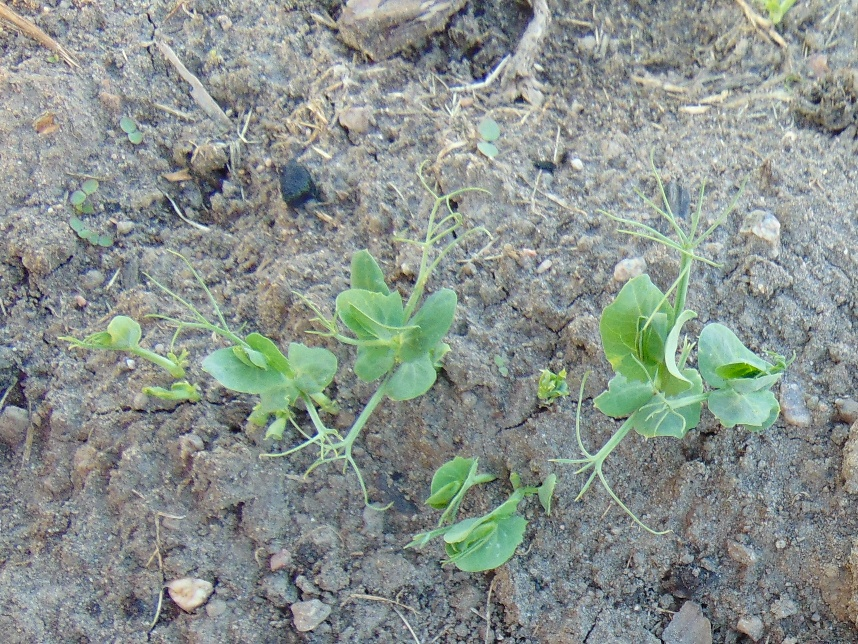crop: (550, 200, 797, 493), (273, 199, 487, 489), (167, 258, 356, 486), (403, 455, 555, 577), (65, 295, 200, 413), (536, 365, 569, 405)
weed: (70, 215, 112, 253), (121, 117, 145, 144)
